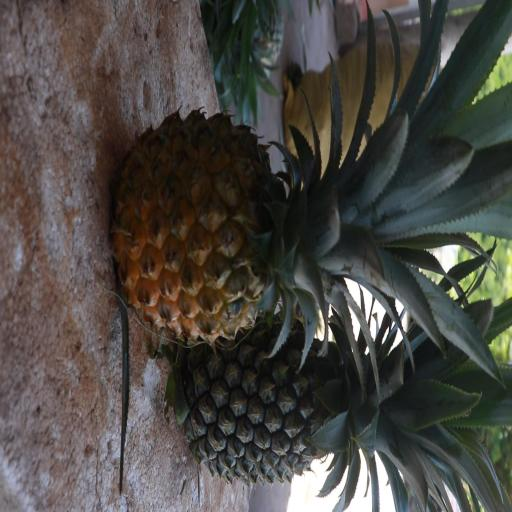Pineapple - v8 v1: (116, 111, 467, 346)
